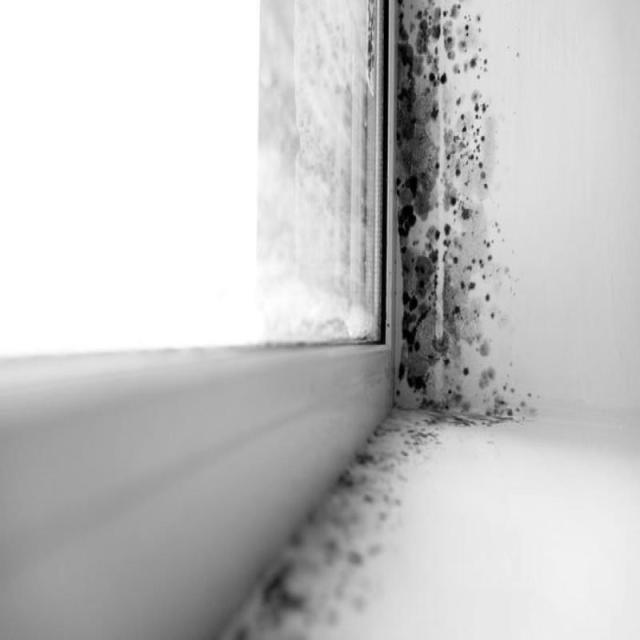stain marks: (372, 0, 537, 467)
